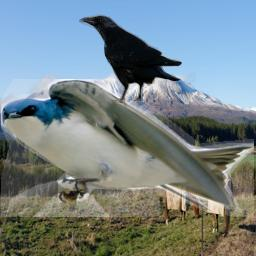Crow: (79, 14, 182, 108)
Swallow: (1, 79, 254, 217)
